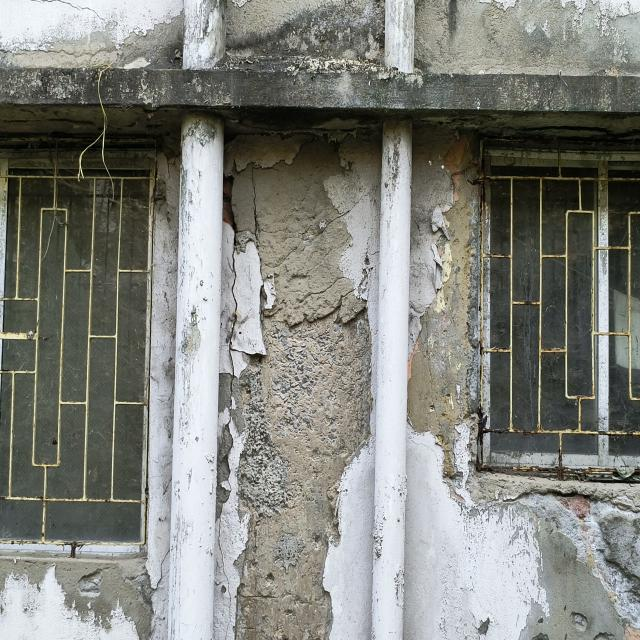peeling: (230, 136, 380, 640), (407, 126, 473, 434), (456, 365, 460, 369)
spalling: (480, 464, 640, 483)
stain_mould: (101, 56, 640, 115), (0, 67, 99, 106)
